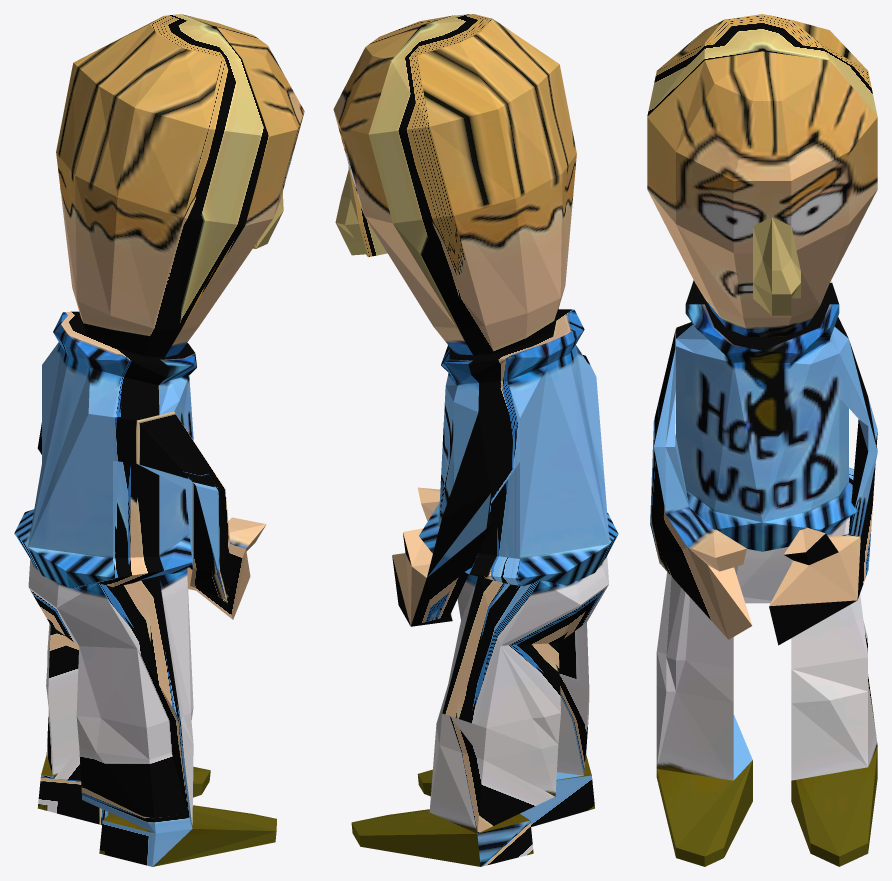
File: pippee.glb
The picture shows the model from 3 angles, left to right: view 1: azimuth 30°, elevation 25°; view 2: azimuth 150°, elevation 25°; view 3: azimuth 270°, elevation 25°; orthographic projection.
Parts seen in each view (by area): view 1: pippee; view 2: pippee; view 3: pippee.
Part boxes in pixels (x1,y1,x2,y2): pippee: [14, 14, 304, 866]; pippee: [333, 14, 618, 866]; pippee: [647, 14, 877, 866].
Bounding box in the file's own units: 39.03 × 113 × 29.29.
Materials: 1 (1 with a texture image).
